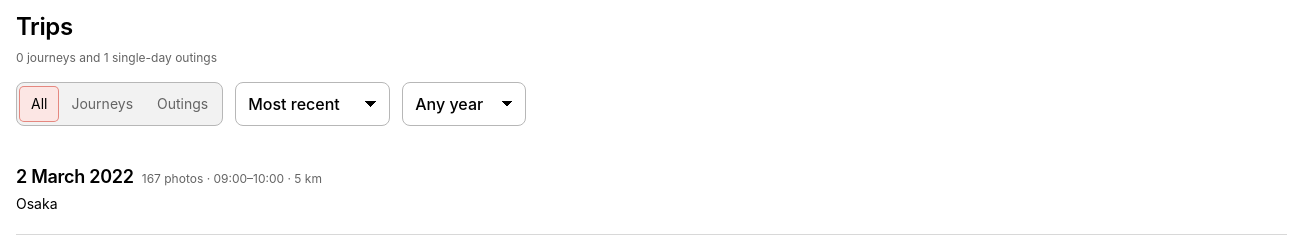
TripsScreen › says when a filter leaves nothing to show
Click the radio button labelled "Journeys": [102, 104] box [60,86,145,122]
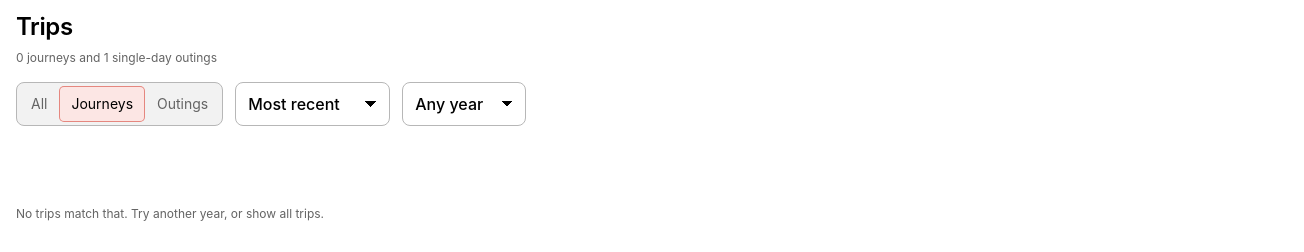
Now the text "No trips match that. Try another year, or show all trips." is shown, box [16,206,324,221]
